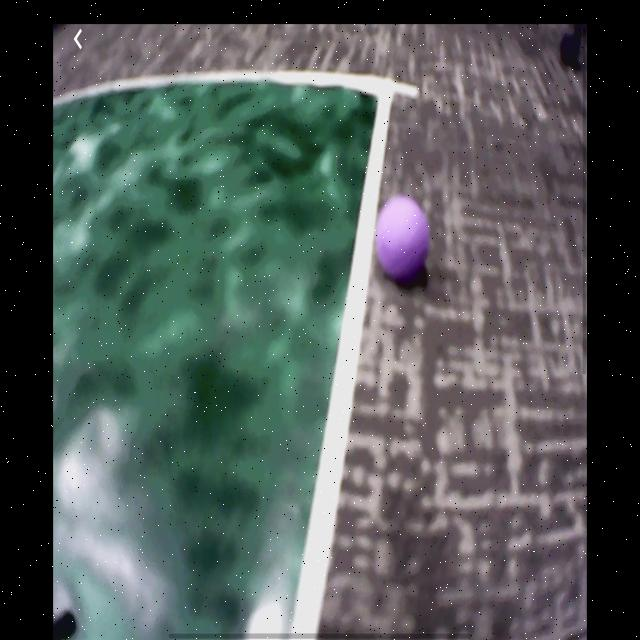ball: (375, 194, 431, 284)
